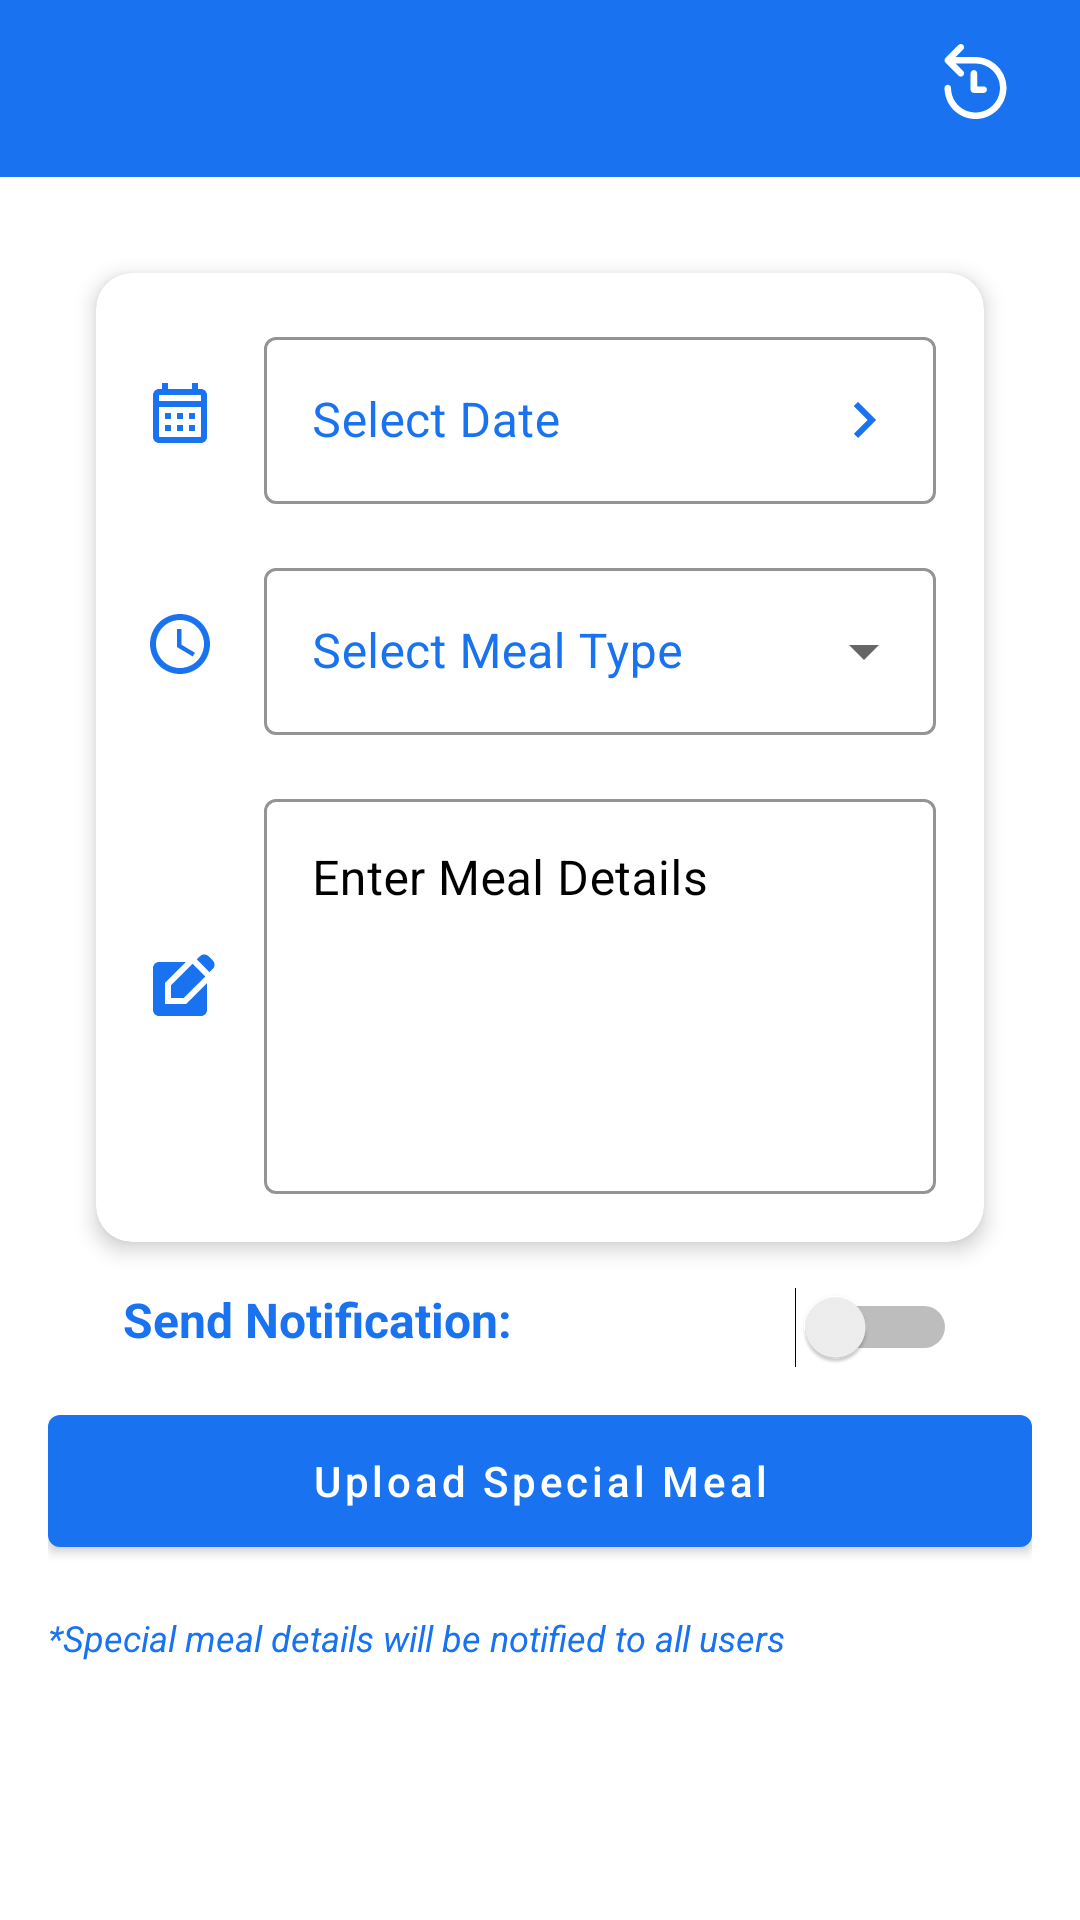

Locate icon controls on the screen. Image size 1080 × 1920, boxes as {"left": x1, "top": y1, "right": x2, "bottom": y2}.
Calendar icon: {"left": 153, "top": 383, "right": 207, "bottom": 443}
History: {"left": 944, "top": 44, "right": 1007, "bottom": 119}
